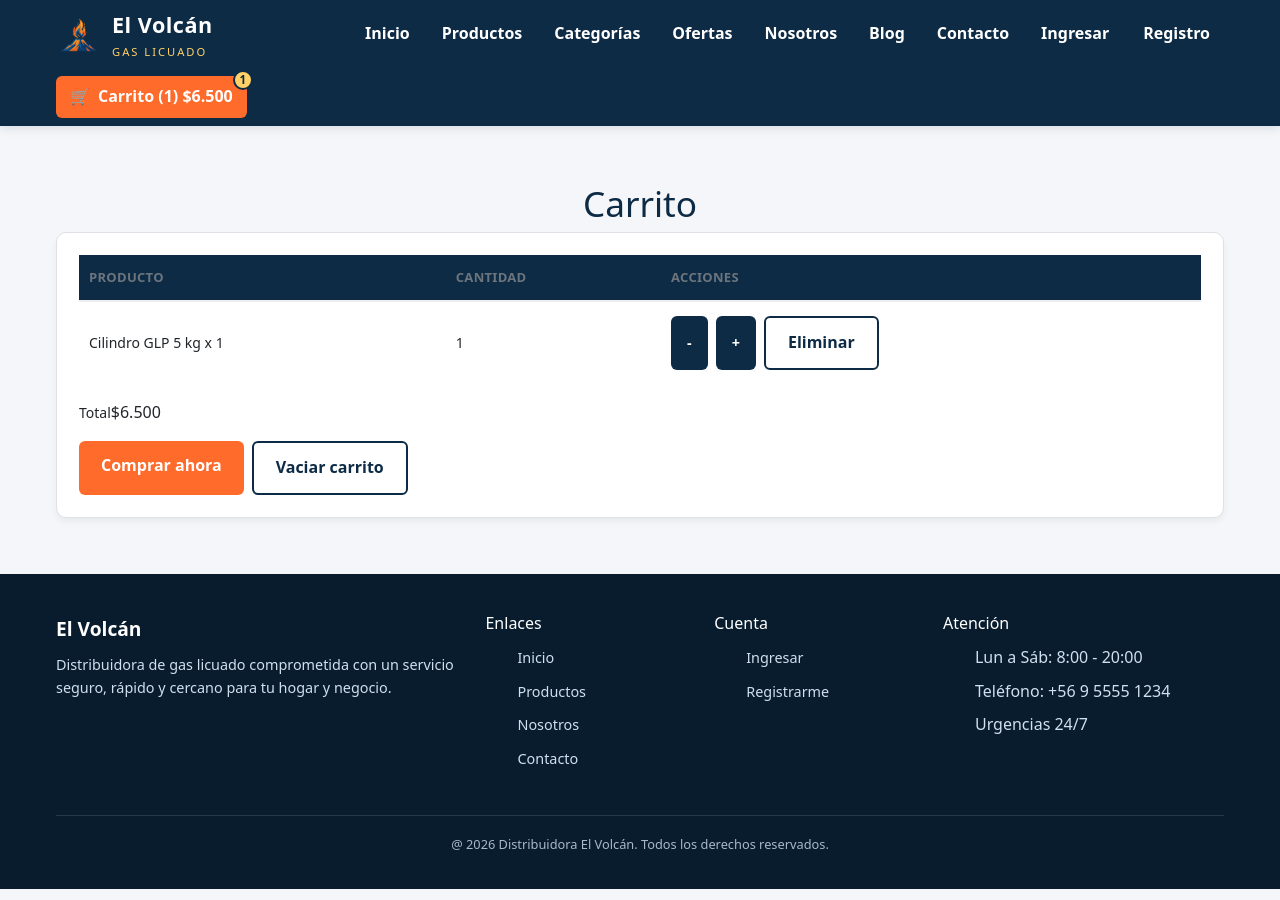
Test: Rutas de la aplicacion (App) › deberia bajar la cantidad y eliminar el producto del carrito
The width and height of the screenshot is (1280, 900).
Click the button "-".
click(689, 343)  # box [671, 316, 708, 370]
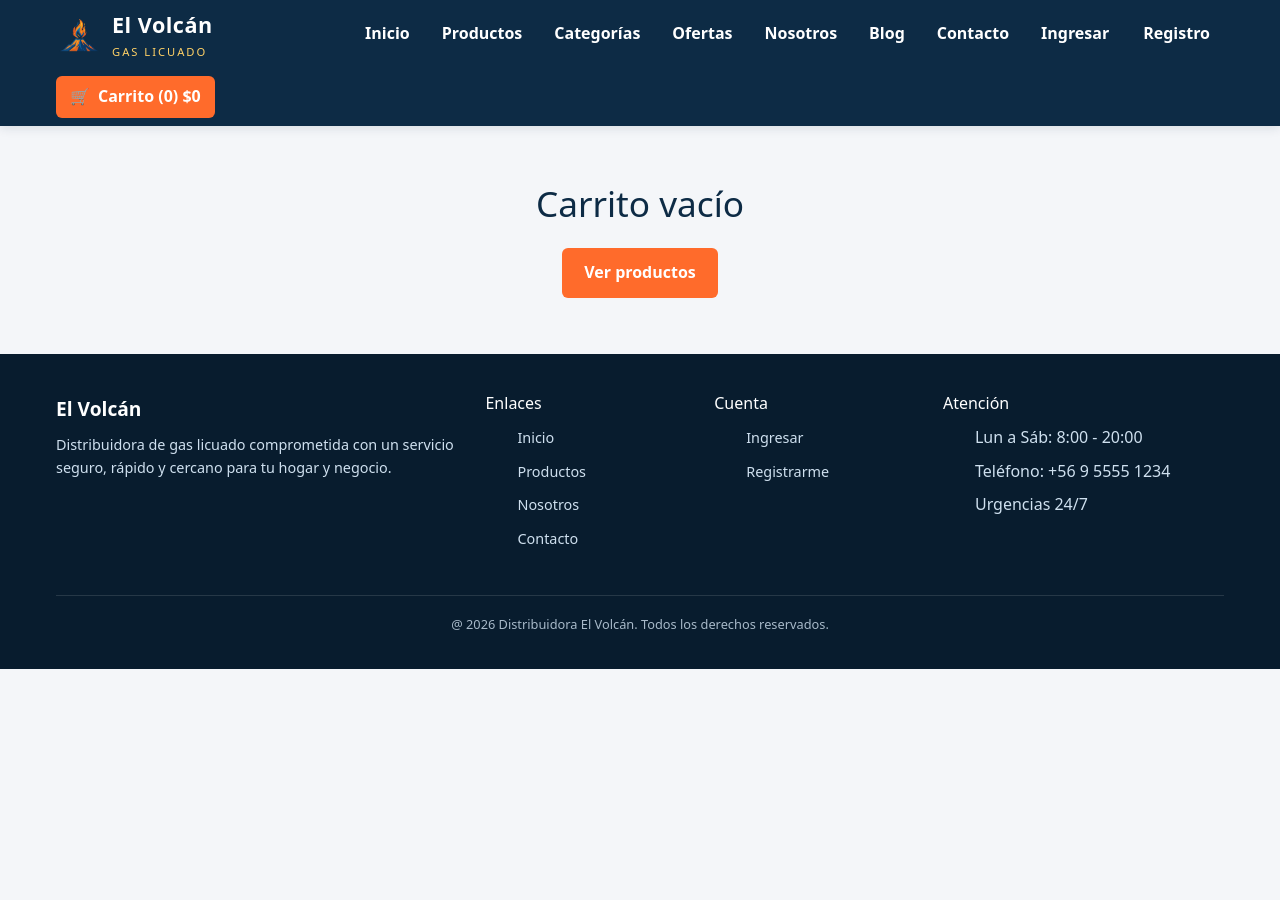
Expected: the heading "Carrito vacío" is shown, [536, 179, 744, 227]
